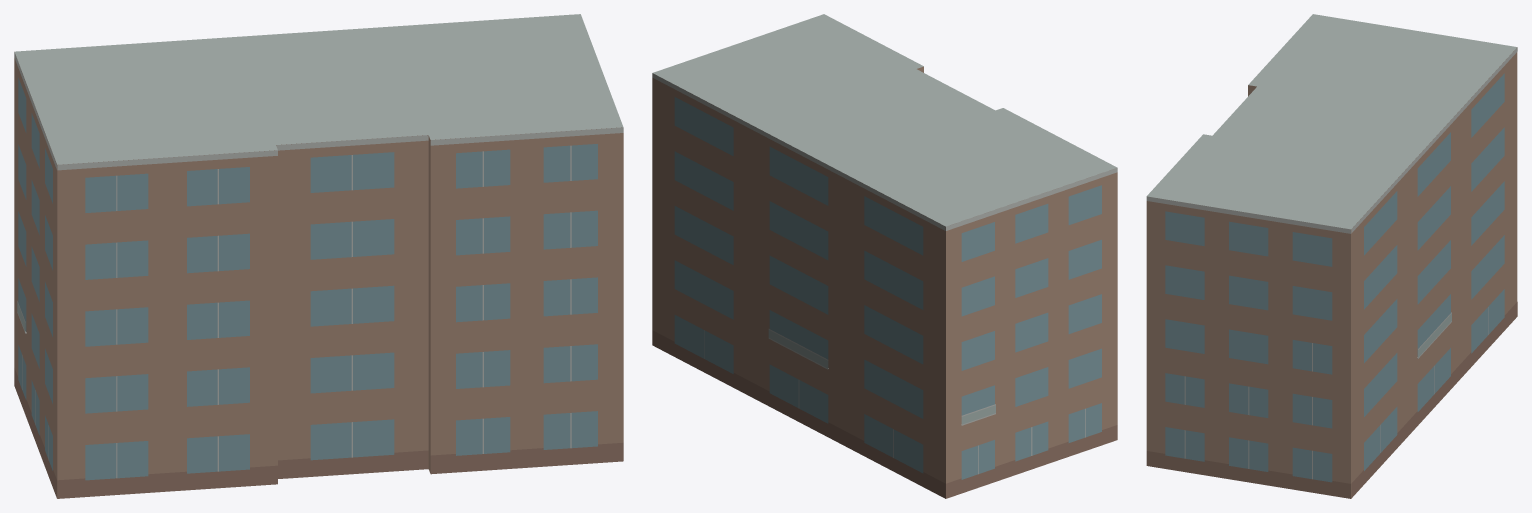
Rendered from survey-upis-32955402.glb.
3 renders of one model, left to right at view 1: azimuth 30°, elevation 25°; view 2: azimuth 150°, elevation 25°; view 3: azimuth 270°, elevation 25°, orthographic. The views are drawn at different scales.
Visible parts, largest first — view 1: survey-upis-32955402.tmp; view 2: survey-upis-32955402.tmp; view 3: survey-upis-32955402.tmp.
Part boxes in pixels (left/top/right/bottom): survey-upis-32955402.tmp: left=14, top=14, right=623, bottom=498; survey-upis-32955402.tmp: left=652, top=14, right=1117, bottom=498; survey-upis-32955402.tmp: left=1146, top=14, right=1517, bottom=498.
Bounding box in the file's own units: 24.86 × 14.5 × 18.1.
